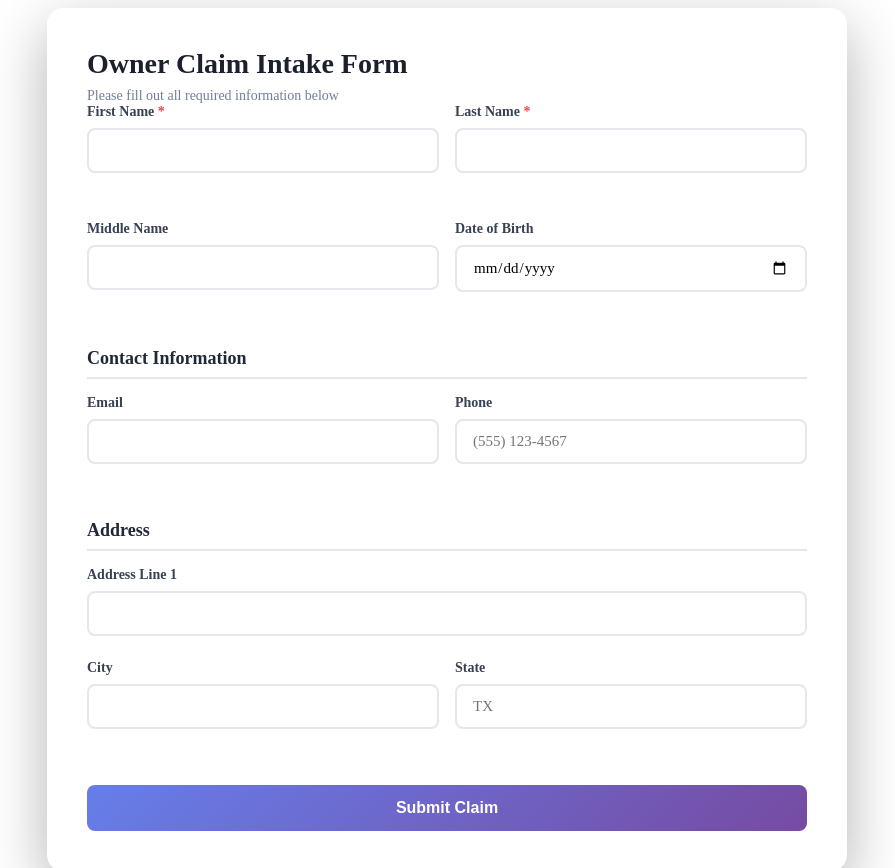
Test case: OwnerClaimIntakeForm › renders and submits form successfully
// Fill out form
Type "John" into the field labelled "First Name *" at (263, 150), box [87, 128, 439, 173]
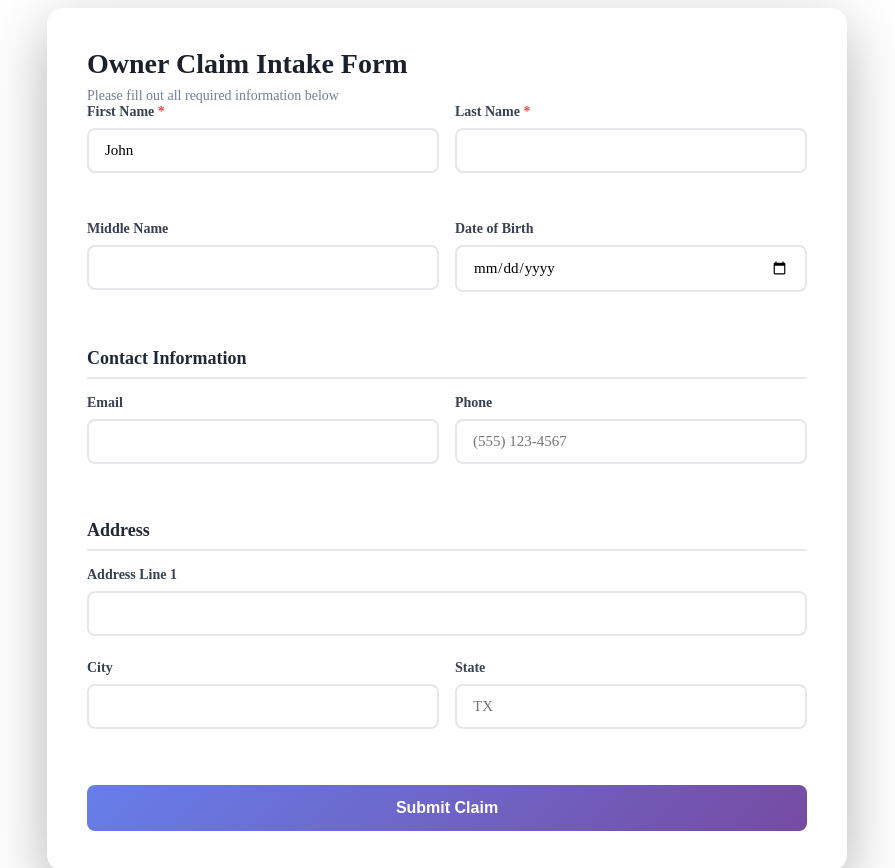
Type "Doe" into the field labelled "Last Name *" at (631, 150), box [455, 128, 807, 173]
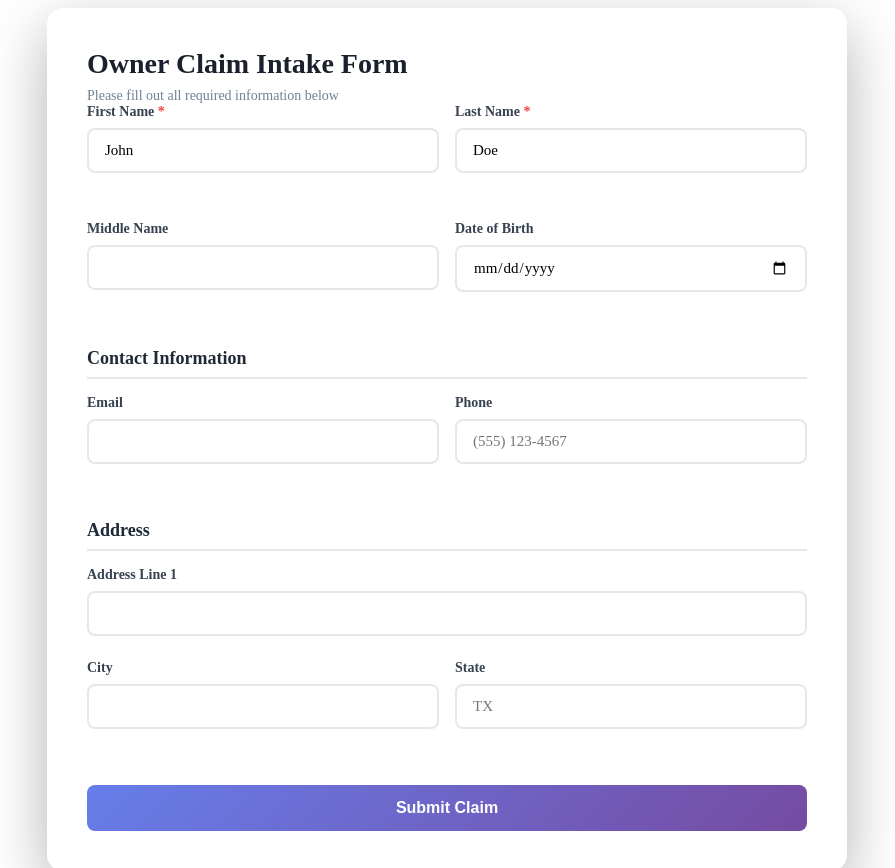
// Submit form
Click the button "Submit Claim" at (447, 808), box [87, 785, 807, 831]
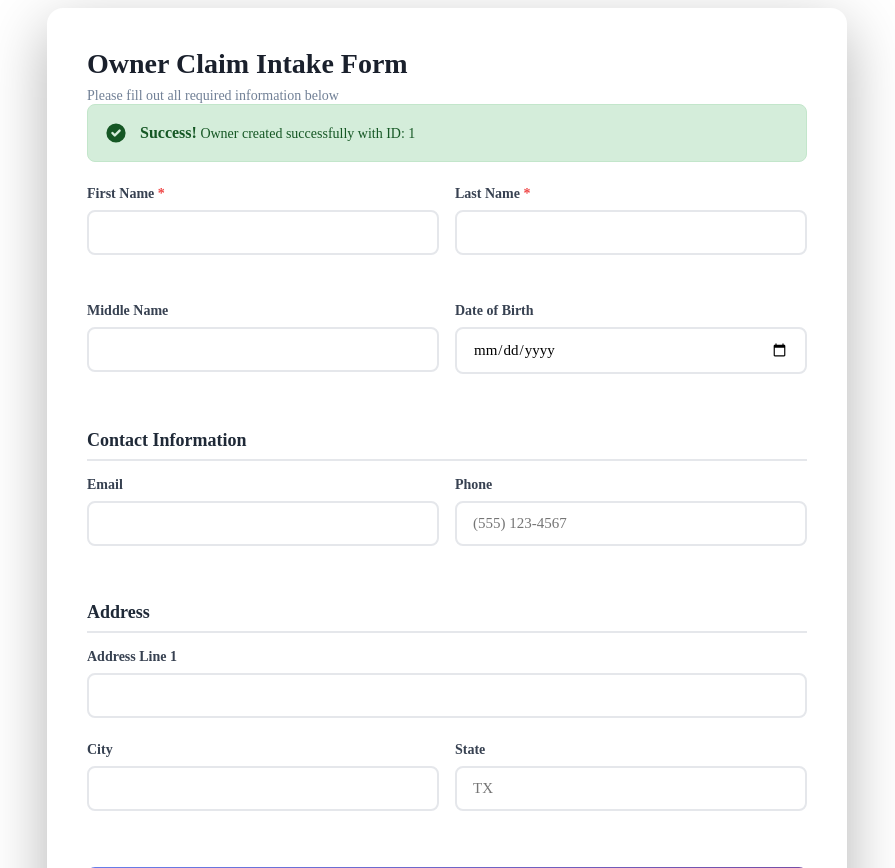
Expected: the text "Owner created successfully with ID: 1" is shown, [197, 126, 415, 141]
